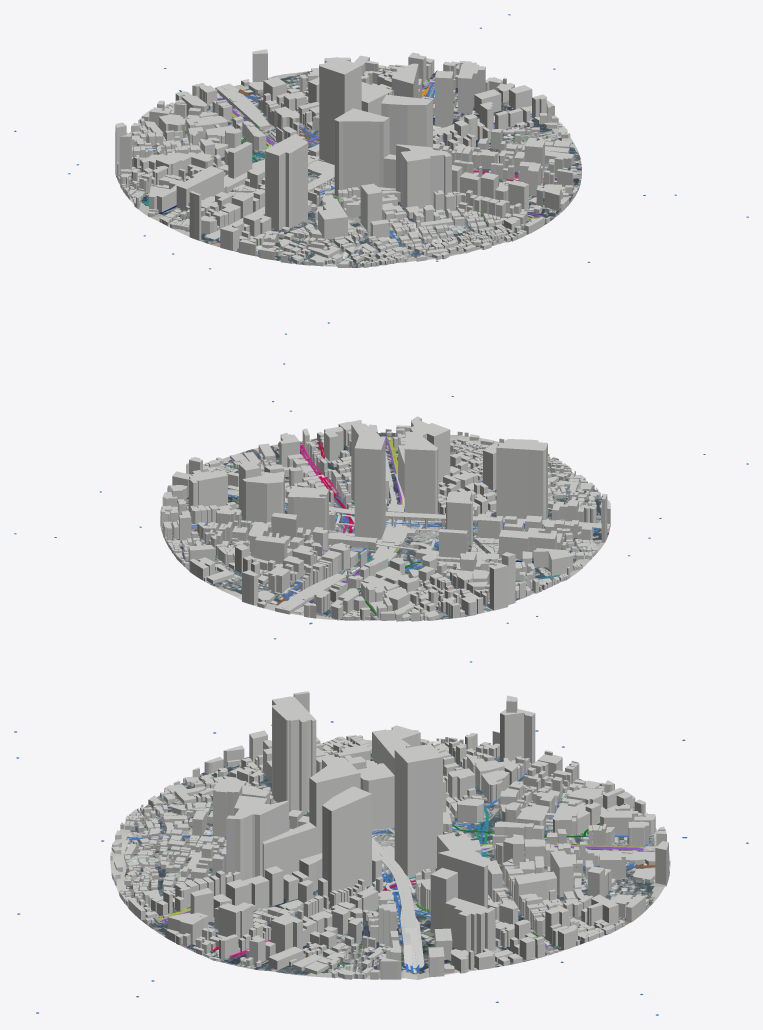
File: Shibuya-city-model-complete.glb
The picture shows the model from 3 angles, top to bottom: view 1: azimuth 30°, elevation 25°; view 2: azimuth 150°, elevation 25°; view 3: azimuth 270°, elevation 25°; orthographic projection. The views are drawn at different scales.
Parts seen in each view (by area): view 1: BUILDINGS_OTHER, BUILDINGS_COMMERCIAL, TERRAIN, BUILDINGS_RESIDENTIAL, BUILDINGS_PUBLIC, BRIDGES, TERRAIN_RIM, TRANSIT_ROUTES; view 2: BUILDINGS_OTHER, BUILDINGS_COMMERCIAL, TERRAIN, BUILDINGS_PUBLIC, BRIDGES, BUILDINGS_RESIDENTIAL, TRANSIT_ROUTES, TERRAIN_RIM, TRANSIT_BUS_NETWORK; view 3: BUILDINGS_OTHER, BUILDINGS_COMMERCIAL, TERRAIN, BRIDGES, BUILDINGS_RESIDENTIAL, TERRAIN_RIM, TRANSIT_ROUTES, BUILDINGS_PUBLIC, TRANSIT_BUS_NETWORK.
Boxes of the visible parts, left/top/right/bottom form: BUILDINGS_OTHER: left=115, top=52, right=577, bottom=267; BUILDINGS_COMMERCIAL: left=115, top=55, right=574, bottom=260; TERRAIN: left=116, top=70, right=581, bottom=267; BUILDINGS_RESIDENTIAL: left=252, top=49, right=542, bottom=266; BUILDINGS_PUBLIC: left=133, top=68, right=525, bottom=249; BRIDGES: left=204, top=79, right=577, bottom=240; TERRAIN_RIM: left=119, top=71, right=577, bottom=263; TRANSIT_ROUTES: left=145, top=79, right=556, bottom=219; BUILDINGS_OTHER: left=160, top=420, right=610, bottom=621; BUILDINGS_COMMERCIAL: left=188, top=416, right=607, bottom=619; TERRAIN: left=160, top=432, right=610, bottom=620; BUILDINGS_PUBLIC: left=206, top=431, right=555, bottom=583; BRIDGES: left=210, top=440, right=610, bottom=614; BUILDINGS_RESIDENTIAL: left=235, top=431, right=571, bottom=605; TRANSIT_ROUTES: left=172, top=436, right=559, bottom=615; TERRAIN_RIM: left=210, top=435, right=604, bottom=620; TRANSIT_BUS_NETWORK: left=191, top=480, right=598, bottom=614; BUILDINGS_OTHER: left=110, top=709, right=669, bottom=979; BUILDINGS_COMMERCIAL: left=204, top=691, right=670, bottom=969; TERRAIN: left=124, top=748, right=655, bottom=974; BRIDGES: left=209, top=828, right=656, bottom=968; BUILDINGS_RESIDENTIAL: left=115, top=807, right=668, bottom=928; TERRAIN_RIM: left=110, top=740, right=670, bottom=979; TRANSIT_ROUTES: left=156, top=807, right=655, bottom=957; BUILDINGS_PUBLIC: left=111, top=740, right=648, bottom=957; TRANSIT_BUS_NETWORK: left=129, top=772, right=650, bottom=972.
Bounding box in the file's own units: 1244 × 233 × 1313.
Materials: 5 (1 with a texture image).
